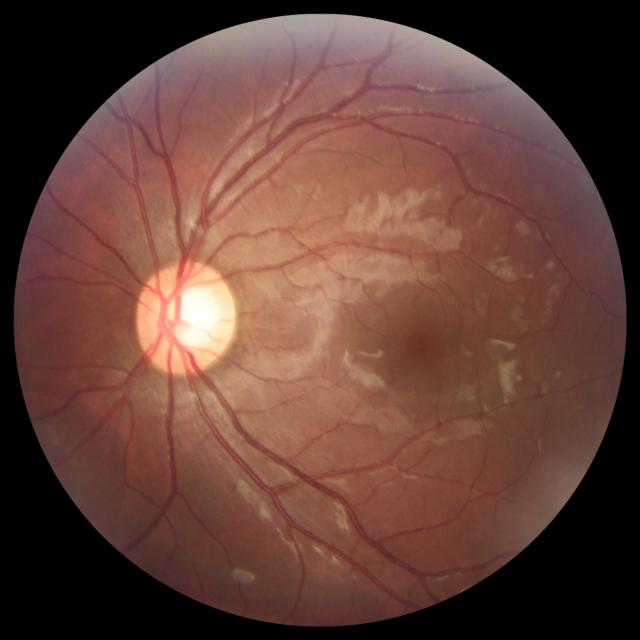OC: (162, 285, 221, 348)
OD: (134, 261, 238, 373)
